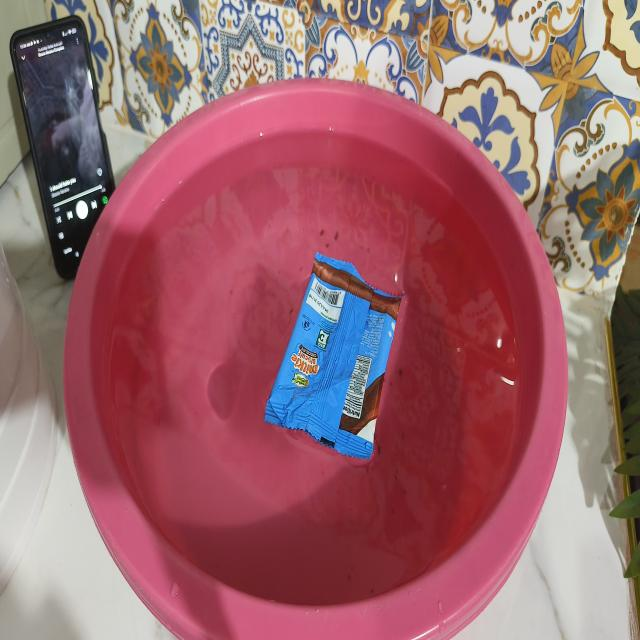Plastic Wrapper: (265, 253, 402, 459)
